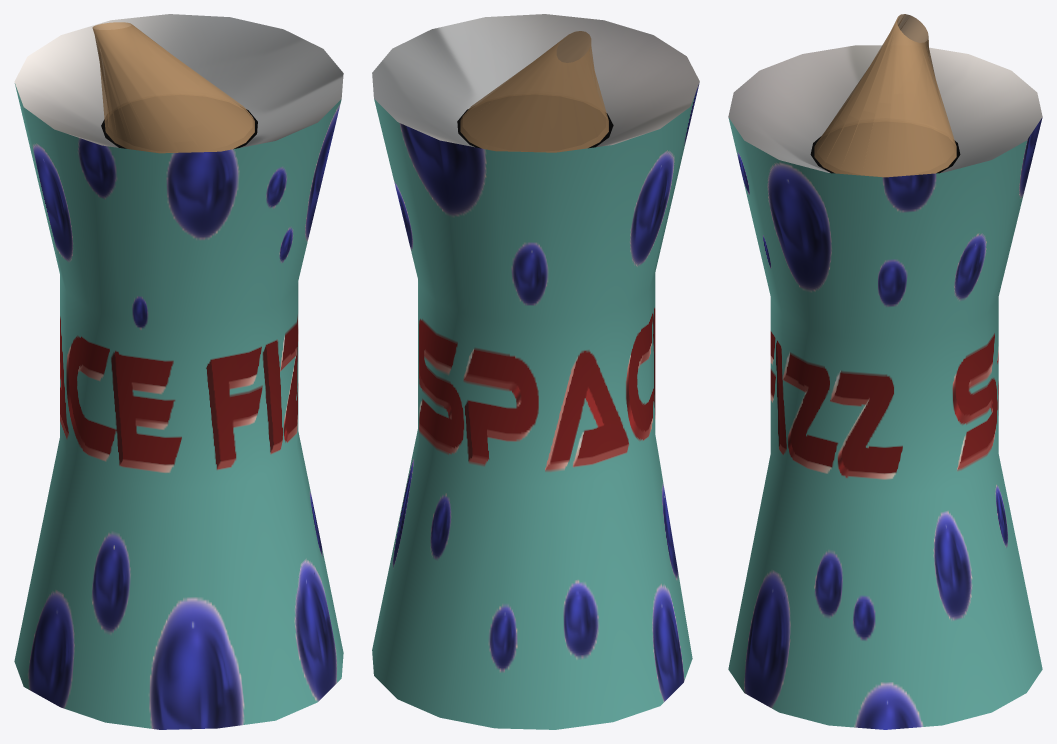
File: HUBDrink-Fizz.fbx
3 renders of one model, left to right at view 1: azimuth 30°, elevation 25°; view 2: azimuth 150°, elevation 25°; view 3: azimuth 270°, elevation 25°, orthographic. The views are drawn at different scales.
Parts seen in each view (by area): view 1: pCylinder1, pTorus1; view 2: pCylinder1, pTorus1; view 3: pCylinder1, pTorus1.
Boxes of the visible parts, bbox=[...] form: pCylinder1: bbox=[14, 14, 343, 729]; pTorus1: bbox=[92, 22, 254, 153]; pCylinder1: bbox=[372, 14, 699, 729]; pTorus1: bbox=[460, 31, 608, 152]; pCylinder1: bbox=[728, 45, 1042, 729]; pTorus1: bbox=[814, 14, 956, 177].
Size of the model in its own units: 148 by 323 by 149.
